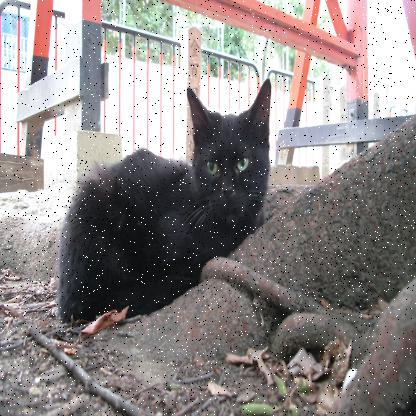cat: (54, 72, 276, 320)
